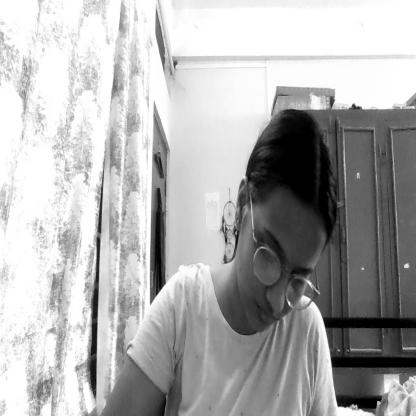Distracted: (234, 117, 324, 340)
